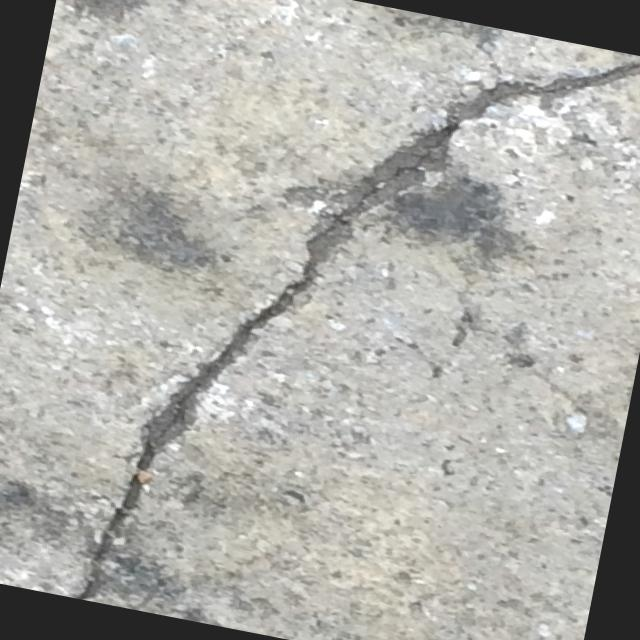crack: (68, 0, 640, 640)
spall: (289, 41, 527, 304)
